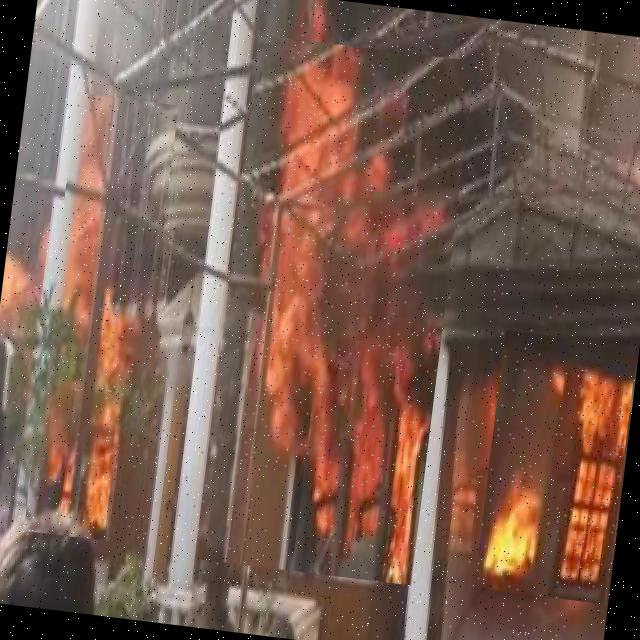fire: (194, 34, 475, 585), (23, 92, 178, 542), (473, 330, 638, 604)
